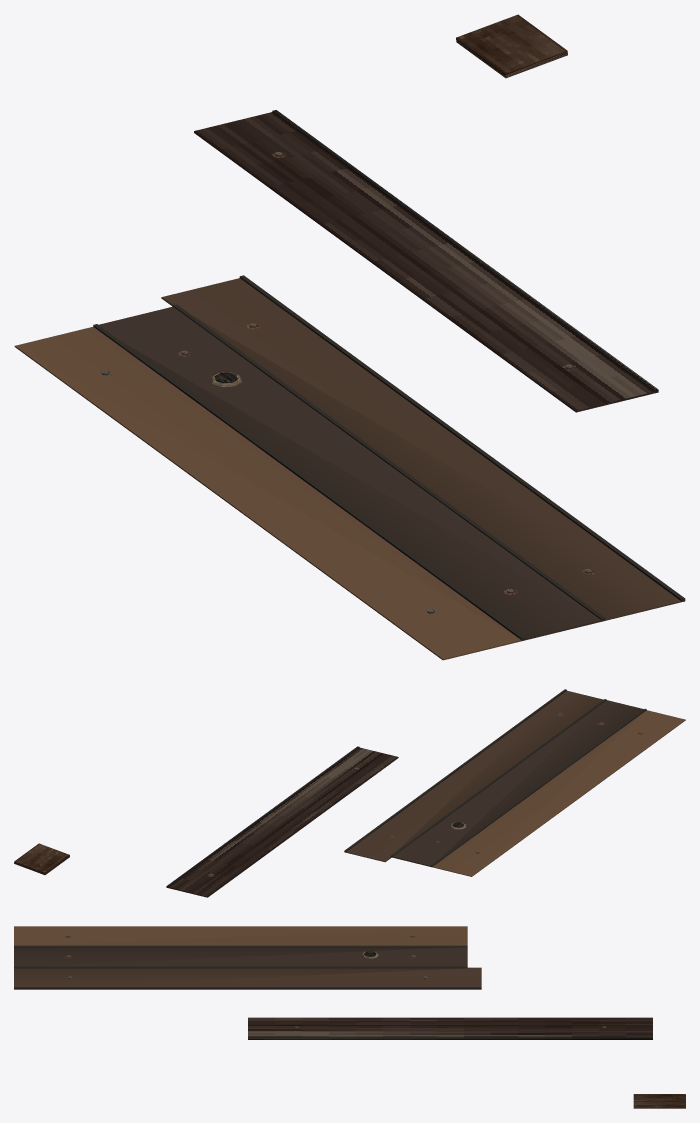
Rendered from floor_wear_static.glb.
The picture shows the model from 3 angles, top to bottom: view 1: azimuth 30°, elevation 25°; view 2: azimuth 150°, elevation 25°; view 3: azimuth 270°, elevation 25°; orthographic projection. The views are drawn at different scales.
Parts seen in each view (by area): view 1: floor_wear_static; view 2: floor_wear_static; view 3: floor_wear_static.
Part boxes in pixels (left/top/right/bottom): floor_wear_static: left=14, top=14, right=685, bottom=660; floor_wear_static: left=14, top=689, right=685, bottom=897; floor_wear_static: left=14, top=926, right=685, bottom=1108.
Bounding box in the file's own units: 1.24 × 0.0213 × 1.93.
Materials: 7 (7 with a texture image).
